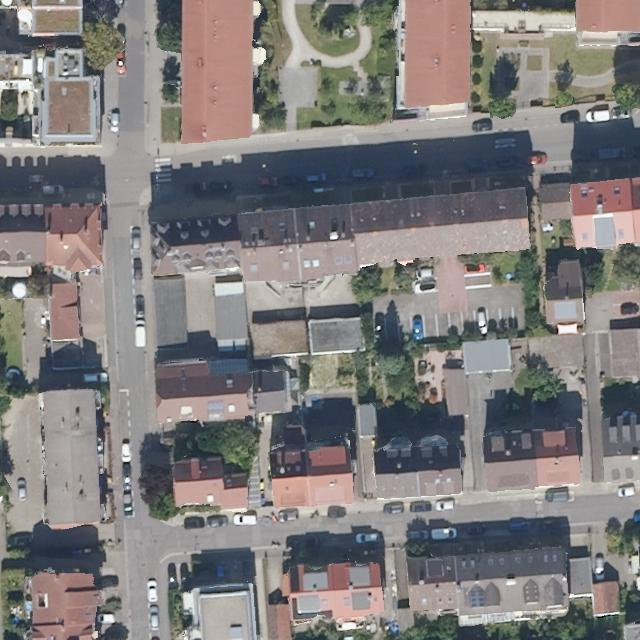PV: (463, 588, 488, 609), (207, 399, 225, 414)
